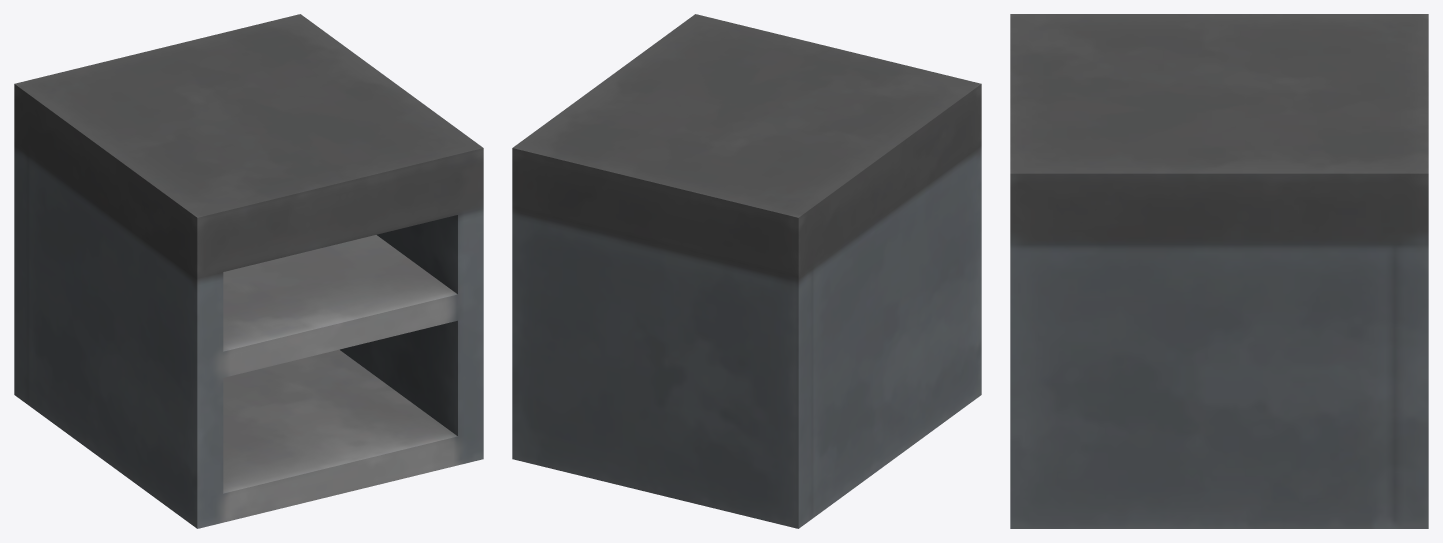
Rendered from Pfb_Shop_Counter__4.fbx.
3 renders of one model, left to right at view 1: azimuth 30°, elevation 25°; view 2: azimuth 150°, elevation 25°; view 3: azimuth 270°, elevation 25°, orthographic. The views are drawn at different scales.
Parts seen in each view (by area): view 1: Mat_Shop_Counter_03_1; view 2: Mat_Shop_Counter_03_1; view 3: Mat_Shop_Counter_03_1.
Boxes of the visible parts, x1=… form: Mat_Shop_Counter_03_1: x1=14, y1=14, x2=483, y2=528; Mat_Shop_Counter_03_1: x1=512, y1=14, x2=981, y2=528; Mat_Shop_Counter_03_1: x1=1010, y1=14, x2=1428, y2=528.
Bounding box in the file's own units: 0.5834 × 0.6062 × 0.6465.
Materials: 1 (1 with a texture image).
